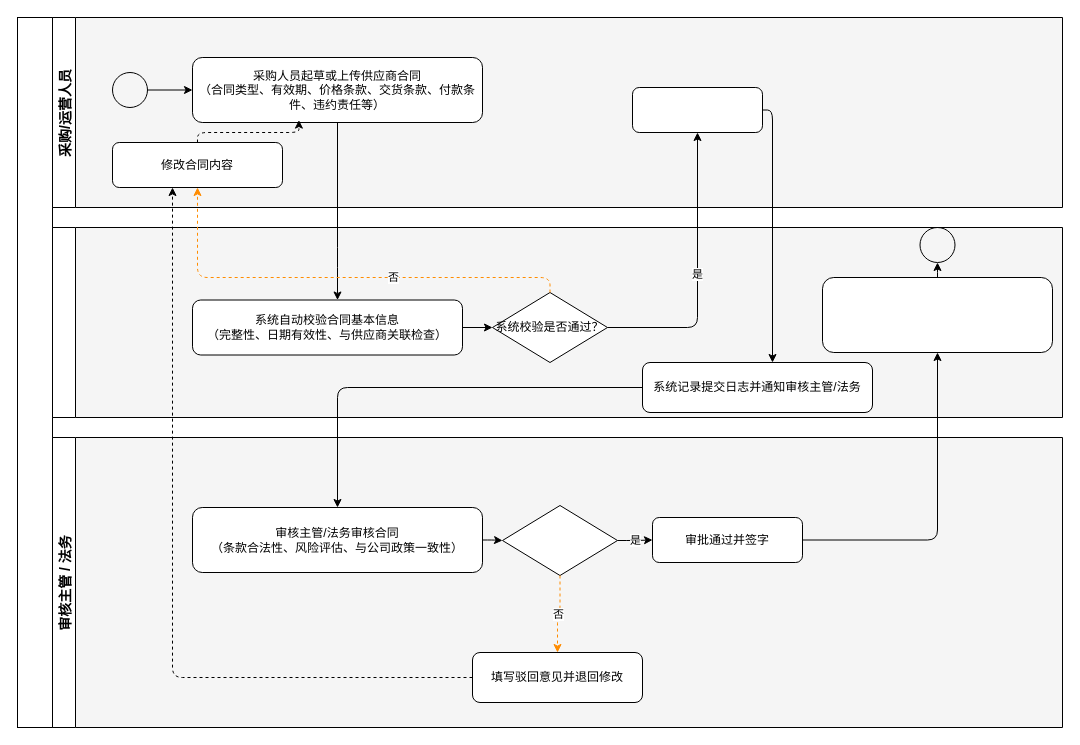
Image size: 1080x745. Some labels were removed from this diagram. The box of each missing label's shape, as (x1, y1, x2, y2) in pixels:
供应商合同管理流程: (16, 16, 52, 728)
合同审核是否通过？: (502, 504, 618, 576)
提交合同审核: (632, 86, 762, 132)
系统: (52, 226, 1062, 418)
系统归档合同 生成合同编号 更新合同状态为“生效” 设置到期提醒: (822, 276, 1052, 352)
